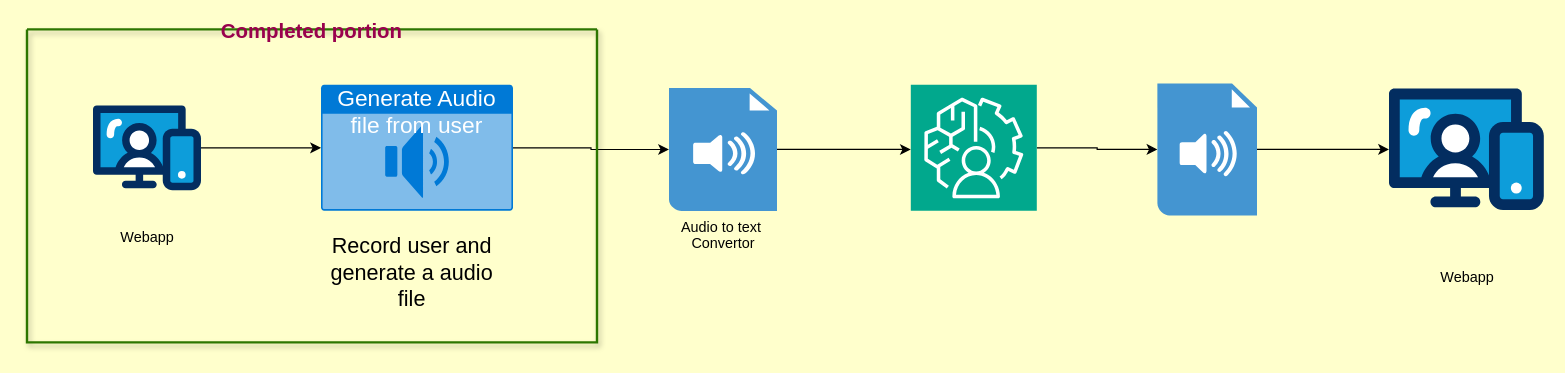
Some shapes in this 1565 by 373 pixel diagram are drawn without their labels. The shapes that lost their labels are listed below. From the top down, each one's centre as x and y in pixels, then its label:
pixel 973 147: Language Model
pixel 1206 149: Text to Audio Convertor
